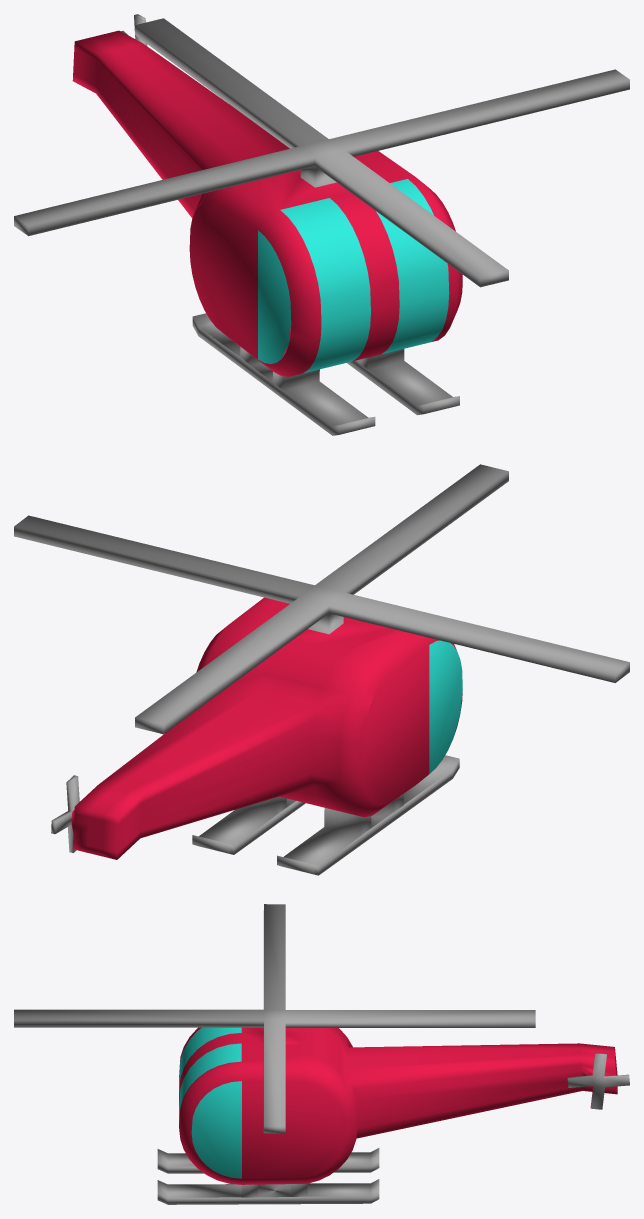
The model's file is Helicopter.fbx.
3 views of the same model, one above another, from view 1: azimuth 30°, elevation 25°; view 2: azimuth 150°, elevation 25°; view 3: azimuth 270°, elevation 25° (orthographic). The views are drawn at different scales.
Parts seen in each view (by area): view 1: Cylinder; view 2: Cylinder; view 3: Cylinder.
Part boxes in pixels (x1,y1,x2,y2): Cylinder: (14,14,629,435); Cylinder: (14,464,629,875); Cylinder: (14,904,629,1204).
Bounding box in the file's own units: 840 × 296 × 986.
